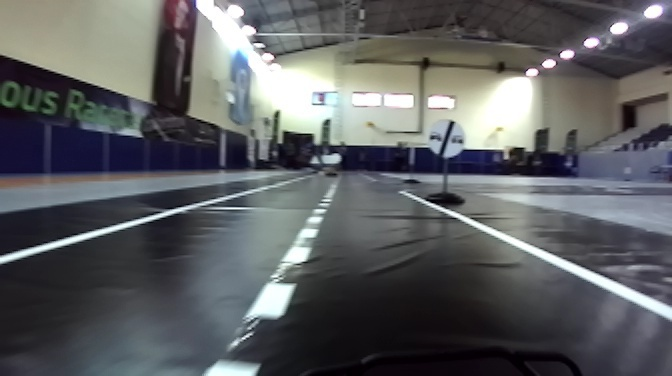sollama_serbest: (427, 120, 465, 157)
